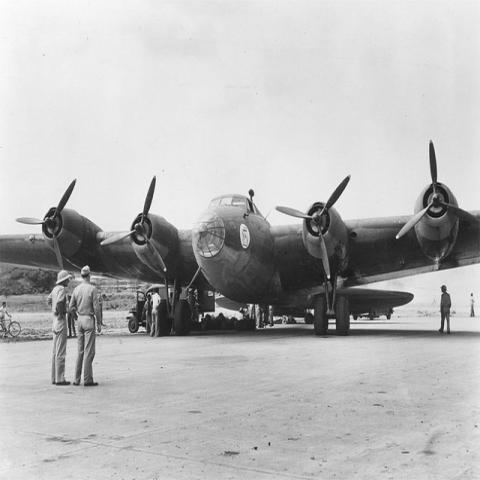truck: (126, 285, 167, 332)
